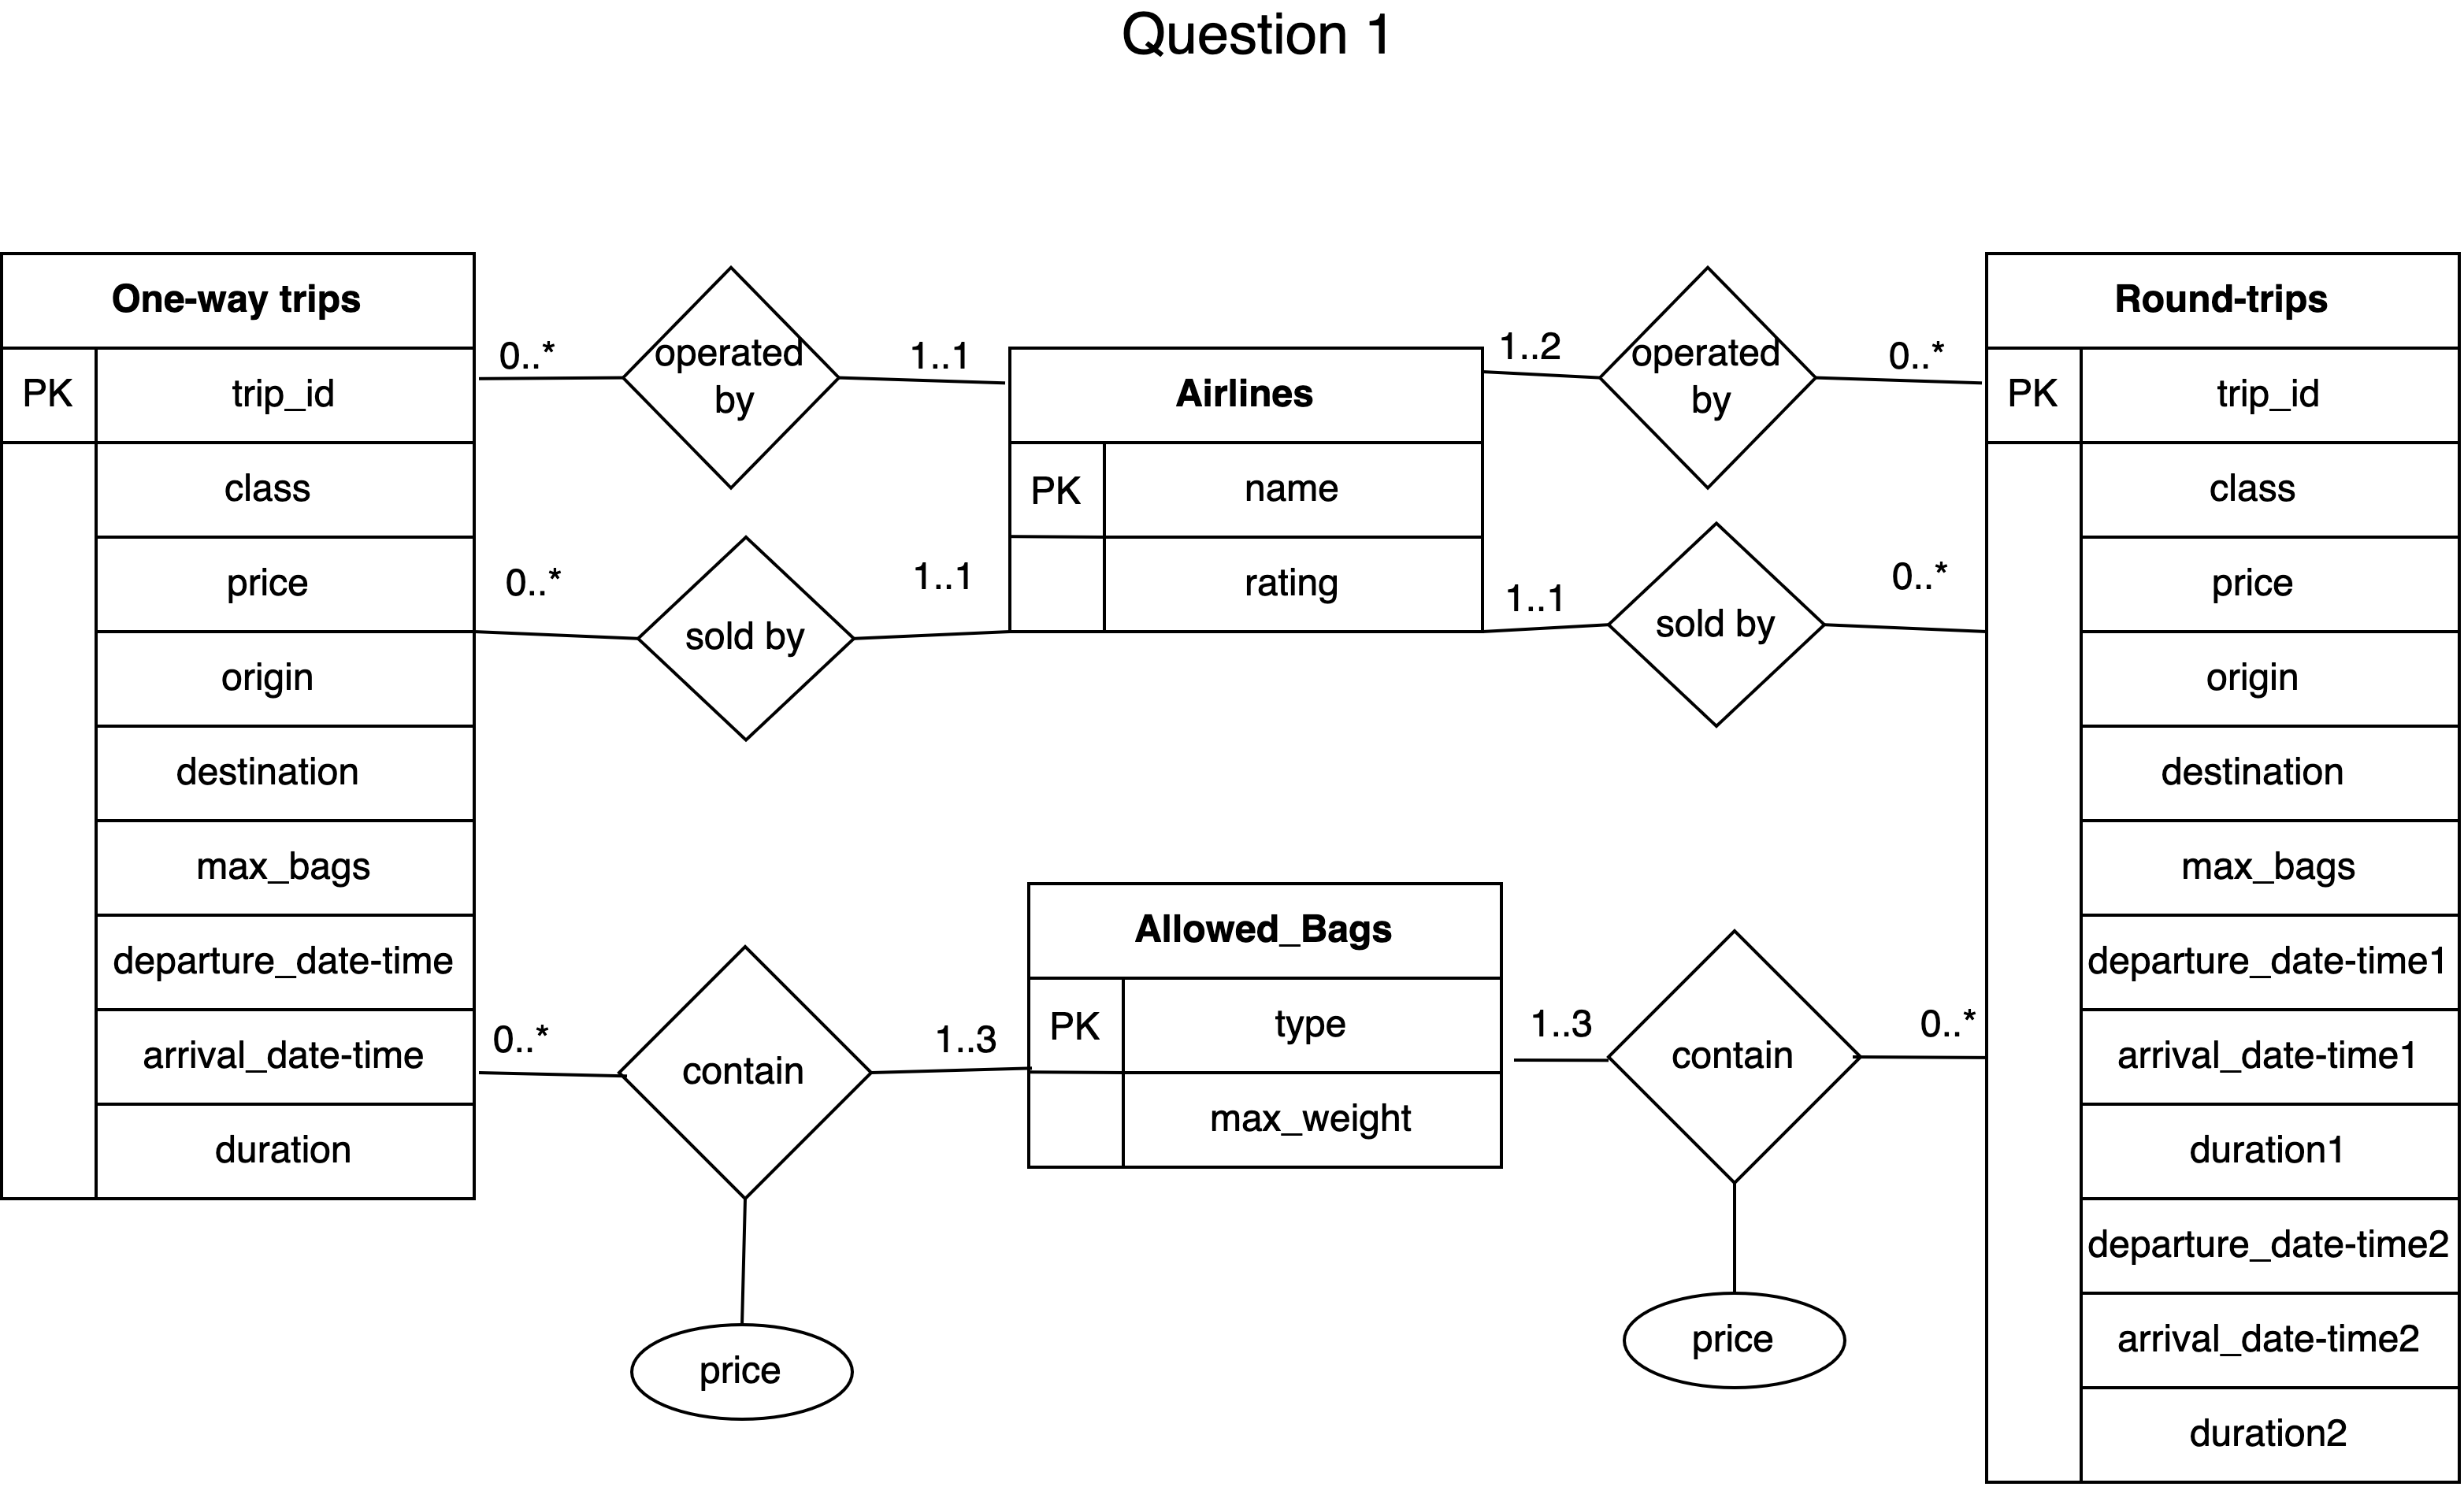entity: (1985, 253, 2460, 1486), (4, 250, 473, 1199), (1007, 345, 1487, 633), (1030, 879, 1498, 1164)
rel: (616, 944, 873, 1199), (1607, 929, 1857, 1178), (1600, 264, 1818, 491), (623, 262, 838, 487), (1607, 514, 1829, 726), (634, 536, 857, 742)
rel_attr: (627, 1321, 855, 1423), (1624, 1291, 1846, 1388)
